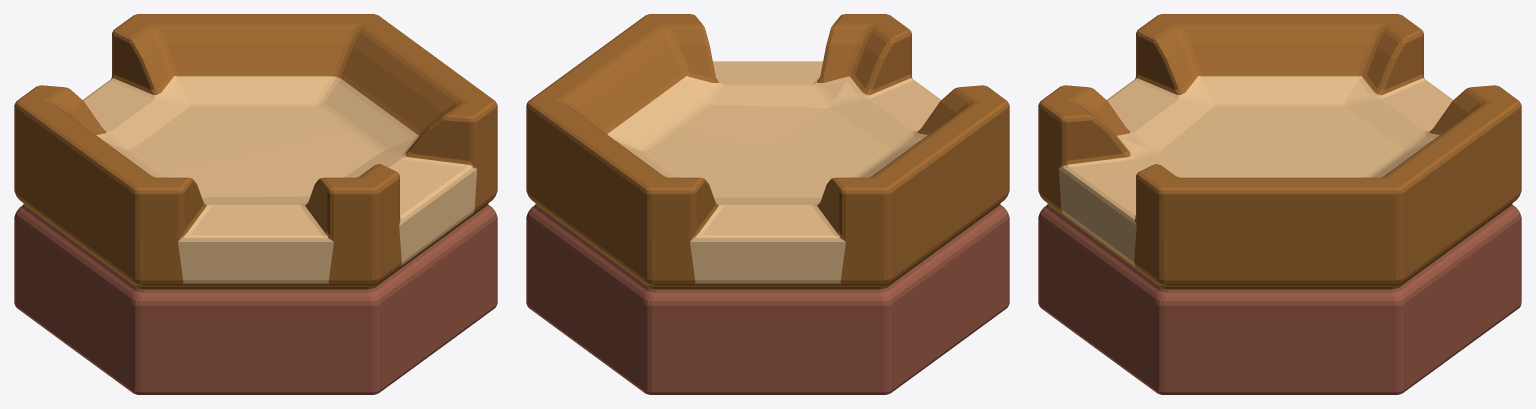
The model's file is my_road_256.fbx.
3 views of the same model, side by side, from view 1: azimuth 30°, elevation 25°; view 2: azimuth 150°, elevation 25°; view 3: azimuth 270°, elevation 25° (orthographic).
Visible parts, largest first — view 1: Circle.013; view 2: Circle.013; view 3: Circle.013.
Part boxes in pixels (x1,y1,x2,y2): Circle.013: (14,14,497,394); Circle.013: (526,14,1009,394); Circle.013: (1038,14,1521,394).
Bounding box in the file's own units: 200 × 109 × 230.
